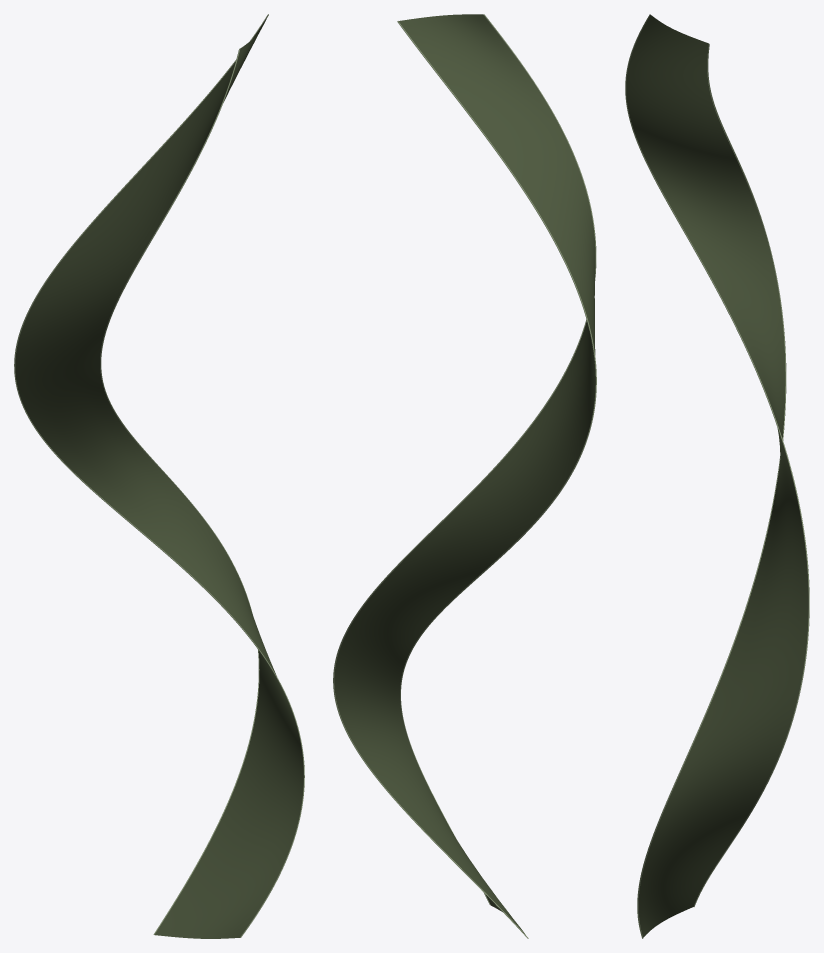
Rendered from atelier-ribbon.glb.
The picture shows the model from 3 angles, left to right: view 1: azimuth 30°, elevation 25°; view 2: azimuth 150°, elevation 25°; view 3: azimuth 270°, elevation 25°; orthographic projection. The views are drawn at different scales.
Parts seen in each view (by area): view 1: atelier-olive-linen-ribbon, atelier-ribbon-selvedge; view 2: atelier-olive-linen-ribbon, atelier-ribbon-selvedge; view 3: atelier-olive-linen-ribbon, atelier-ribbon-selvedge.
Part boxes in pixels (<box>): atelier-olive-linen-ribbon: <box>15,16,303,938</box>; atelier-ribbon-selvedge: <box>14,14,304,937</box>; atelier-olive-linen-ribbon: <box>334,14,595,934</box>; atelier-ribbon-selvedge: <box>333,14,596,938</box>; atelier-olive-linen-ribbon: <box>626,14,808,937</box>; atelier-ribbon-selvedge: <box>625,14,809,938</box>.
Size of the model in its own units: 0.7974 by 2.7 by 0.4879.
